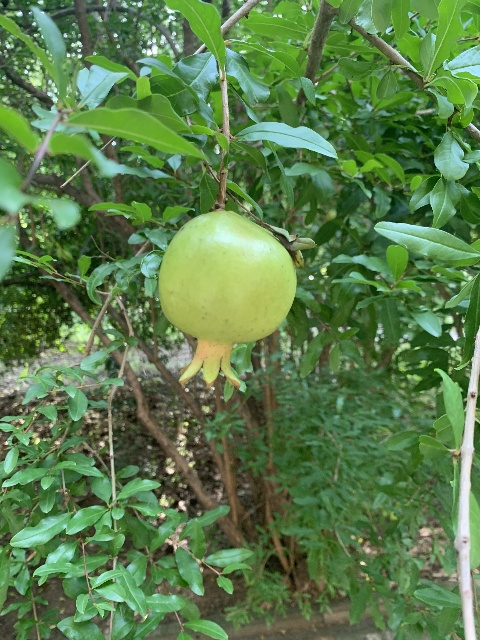mid-growth: (157, 210, 298, 389)
